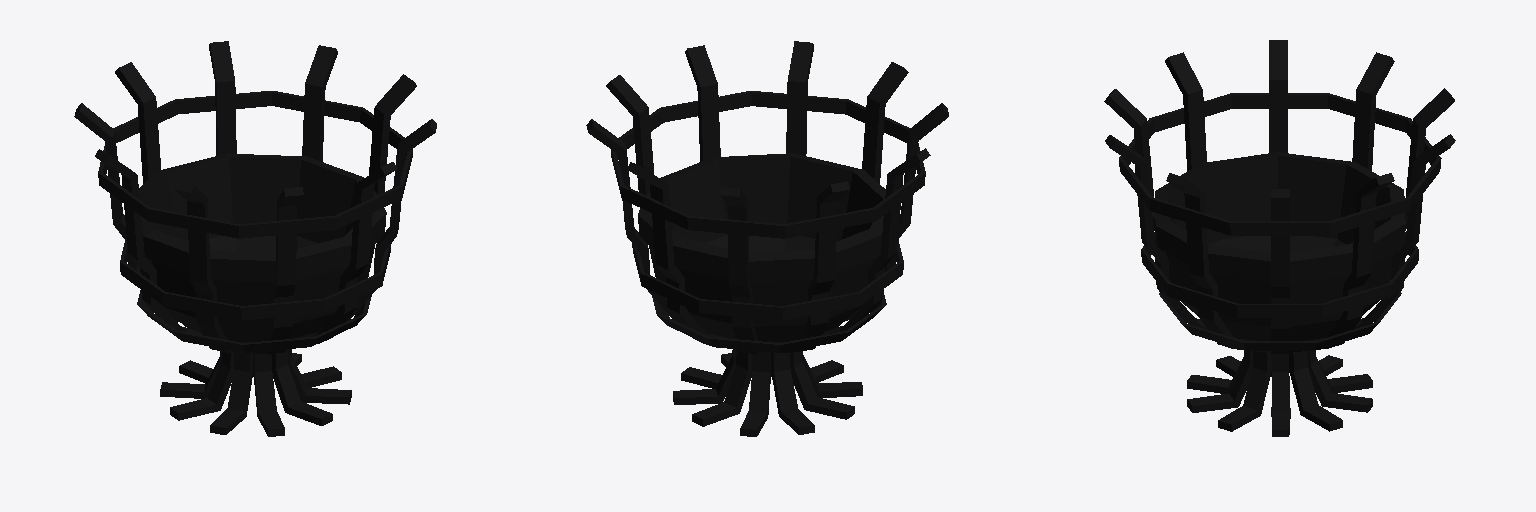
File: medievalBraizer.obj
The picture shows the model from 3 angles: view 1: azimuth 30°, elevation 25°; view 2: azimuth 150°, elevation 25°; view 3: azimuth 270°, elevation 25°; orthographic projection.
Visible parts, largest first — view 1: bra; view 2: bra; view 3: bra.
Part boxes in pixels (left/top/right/bottom): bra: left=74, top=41, right=436, bottom=436; bra: left=586, top=41, right=948, bottom=436; bra: left=1104, top=40, right=1455, bottom=436.
Size of the model in its own units: 1.06 by 0.9071 by 1.02.